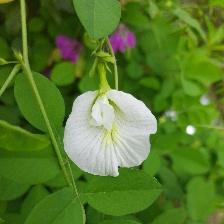shankupushpam: (62, 88, 163, 182)
